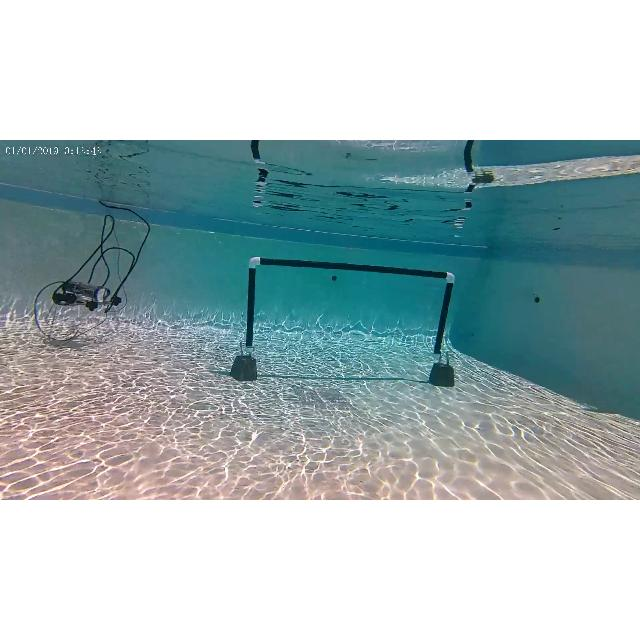prequal gate: (247, 256, 458, 354)
prequal gate leg l: (234, 252, 266, 382)
prequal gate leg r: (432, 272, 456, 388)
